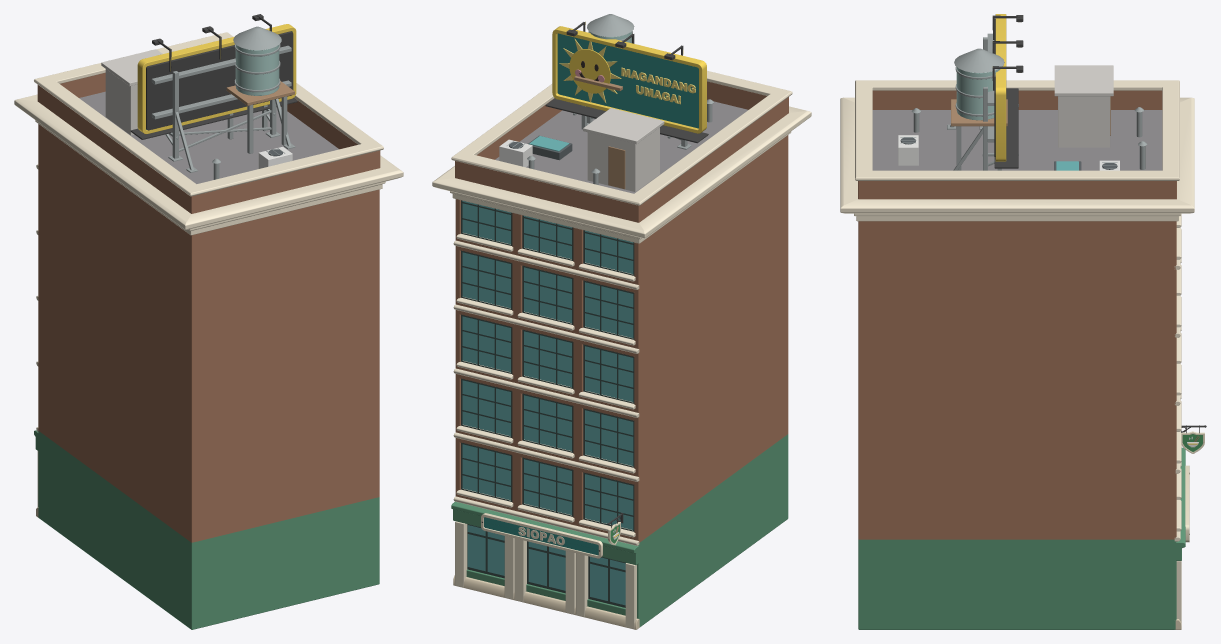
File: far_loft_16.glb
The picture shows the model from 3 angles, left to right: view 1: azimuth 30°, elevation 25°; view 2: azimuth 150°, elevation 25°; view 3: azimuth 270°, elevation 25°; orthographic projection. The views are drawn at different scales.
Visible parts, largest first — view 1: shell, trim, billboard_sun, props; view 2: shell, trim, billboard_sun, frames, props, sign_siopao, billboard_sun_text; view 3: shell, trim, props, billboard_sun, blade_bowl.
Part boxes in pixels (x1,y1,x2,y2): shell: (38,91,379,629); trim: (14,32,403,517); billboard_sun: (130,14,297,172); props: (101,26,294,179); shell: (455,100,788,627); trim: (432,70,811,629); billboard_sun: (545,21,708,149); frames: (461,200,634,607); props: (499,14,713,191); sign_siopao: (481,513,602,558); billboard_sun_text: (621,67,695,104); shell: (858,110,1176,629); trim: (840,80,1194,629); props: (898,48,1147,170); billboard_sun: (947,14,1023,170); blade_bowl: (1181,425,1206,453).
Bounding box in the file's own units: 11.5 × 26.6 × 16.13.
